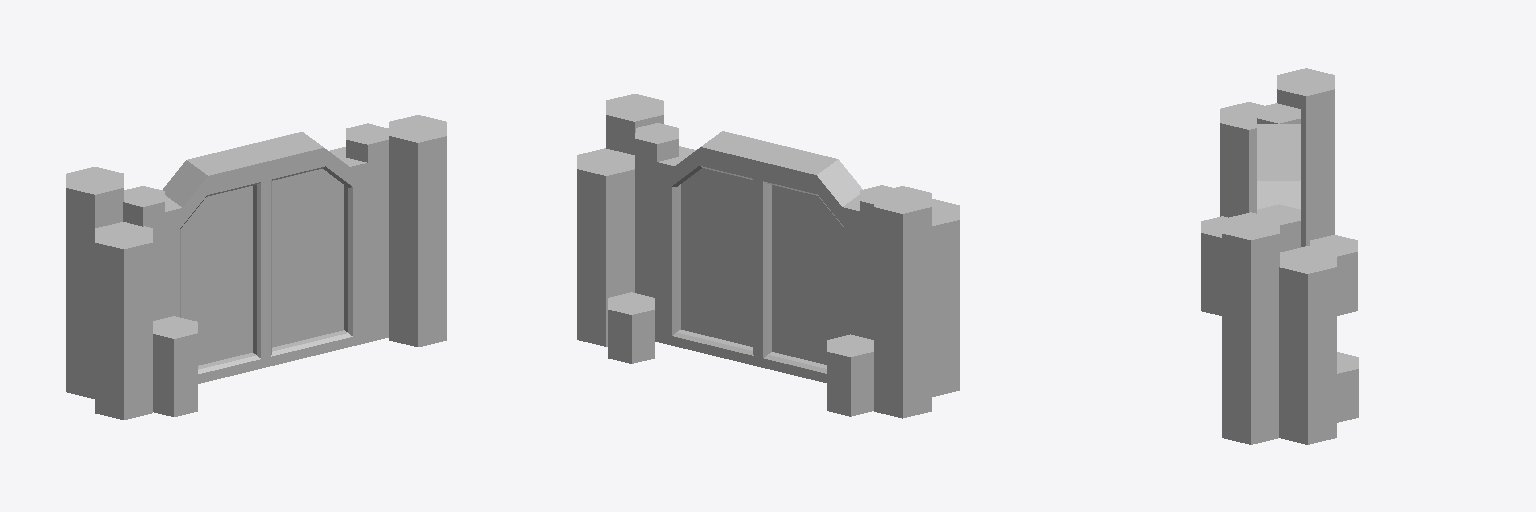
Rendered from Gate Meshes.obj.
The picture shows the model from 3 angles: view 1: azimuth 30°, elevation 25°; view 2: azimuth 150°, elevation 25°; view 3: azimuth 270°, elevation 25°; orthographic projection.
Visible parts, largest first — view 1: Gate_Door, Door_Sides; view 2: Gate_Door, Door_Sides; view 3: Door_Sides, Gate_Door.
Boxes of the visible parts, box(x1,y1,x2,y2) form: Gate_Door: box(123, 123, 388, 383); Door_Sides: box(66, 115, 446, 419); Gate_Door: box(635, 123, 891, 382); Door_Sides: box(577, 94, 959, 418); Door_Sides: box(1201, 68, 1358, 444); Gate_Door: box(1257, 103, 1300, 251).
Bounding box in the file's own units: 12.19 × 6.78 × 4.72.